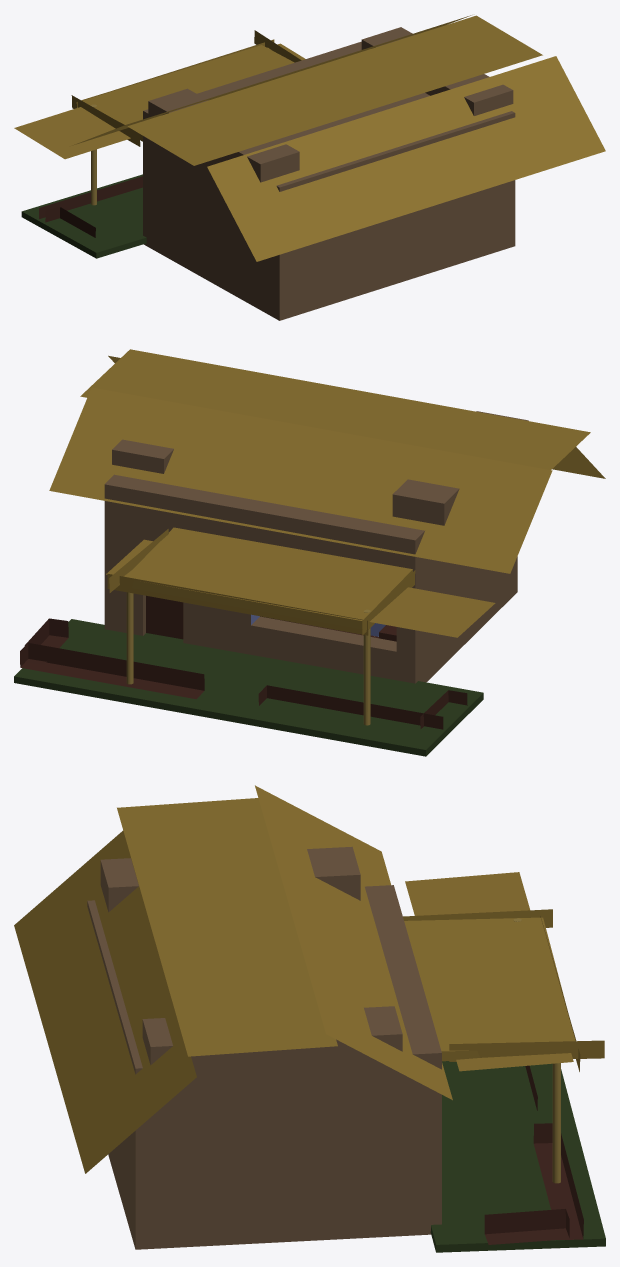
The model's file is Kopikade.glb.
3 renders of one model, top to bottom at view 1: azimuth 30°, elevation 25°; view 2: azimuth 150°, elevation 25°; view 3: azimuth 270°, elevation 25°, orthographic. The views are drawn at different scales.
Visible parts, largest first — view 1: Kopi kade; view 2: Kopi kade; view 3: Kopi kade.
Boxes of the visible parts, <box> form: Kopi kade: <box>14,15,605,320</box>; Kopi kade: <box>14,349,605,756</box>; Kopi kade: <box>14,785,605,1252</box>.
Bounding box in the file's own units: 157 × 61.47 × 137.
Materials: 1 (1 with a texture image).
